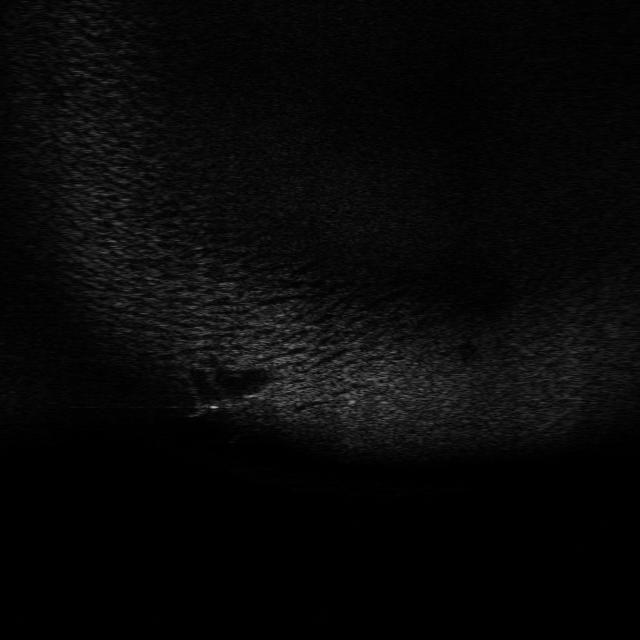plane: (177, 392, 252, 418)
